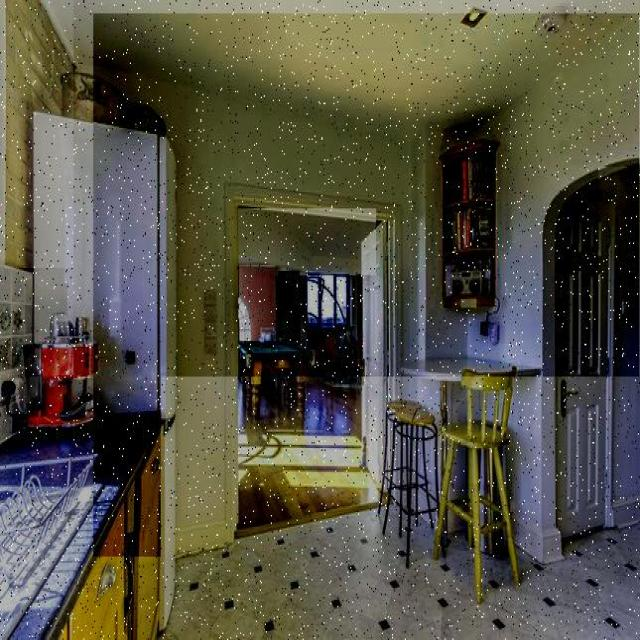Wall: (94, 15, 640, 557), (161, 377, 639, 639), (49, 0, 640, 128), (5, 0, 73, 268), (599, 167, 640, 525), (238, 209, 376, 275), (239, 266, 276, 341), (402, 379, 440, 425), (278, 272, 300, 342), (450, 447, 466, 497), (449, 383, 467, 423), (449, 512, 466, 531)
